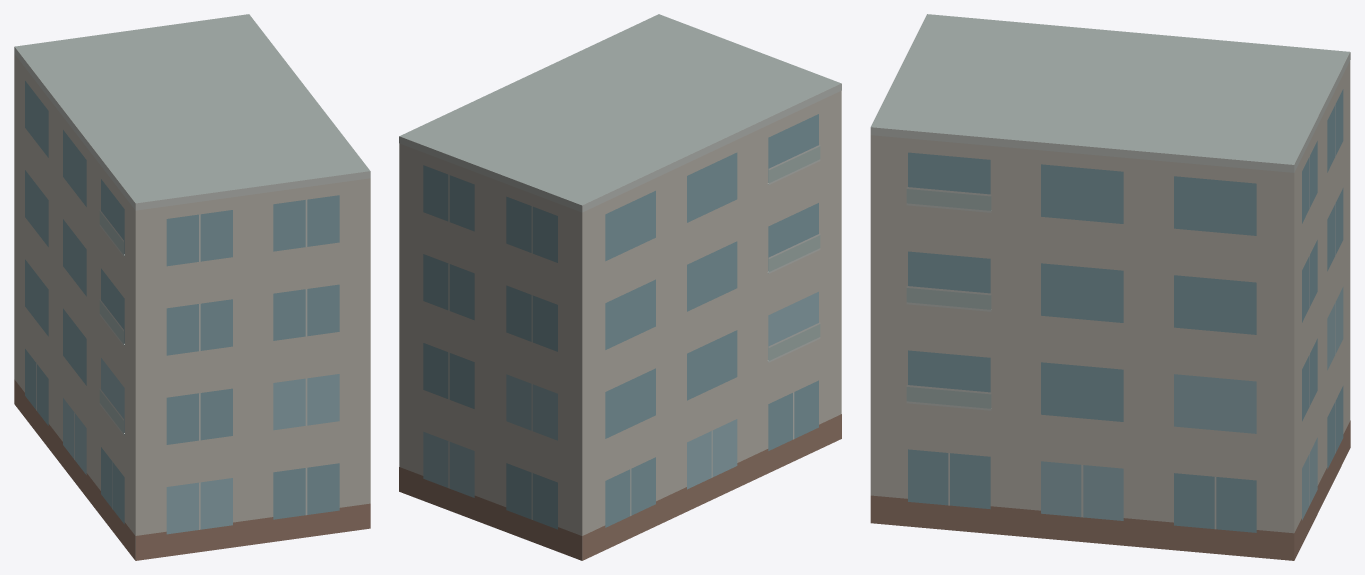
Rendered from residential-aefc8aa3-3bb6-4072-9d3d-fec0aafc2b2a.glb.
3 views of the same model, side by side, from view 1: azimuth 30°, elevation 25°; view 2: azimuth 150°, elevation 25°; view 3: azimuth 270°, elevation 25° (orthographic). The views are drawn at different scales.
Parts seen in each view (by area): view 1: residential-aefc8aa3-3bb6-4072-9d3d-fec0aafc2b2a.tmp; view 2: residential-aefc8aa3-3bb6-4072-9d3d-fec0aafc2b2a.tmp; view 3: residential-aefc8aa3-3bb6-4072-9d3d-fec0aafc2b2a.tmp.
Boxes of the visible parts, x1=… form: residential-aefc8aa3-3bb6-4072-9d3d-fec0aafc2b2a.tmp: x1=14, y1=14, x2=370, y2=560; residential-aefc8aa3-3bb6-4072-9d3d-fec0aafc2b2a.tmp: x1=399, y1=14, x2=841, y2=560; residential-aefc8aa3-3bb6-4072-9d3d-fec0aafc2b2a.tmp: x1=870, y1=14, x2=1350, y2=560.
Bounding box in the file's own units: 9.99 × 12.2 × 13.41.
